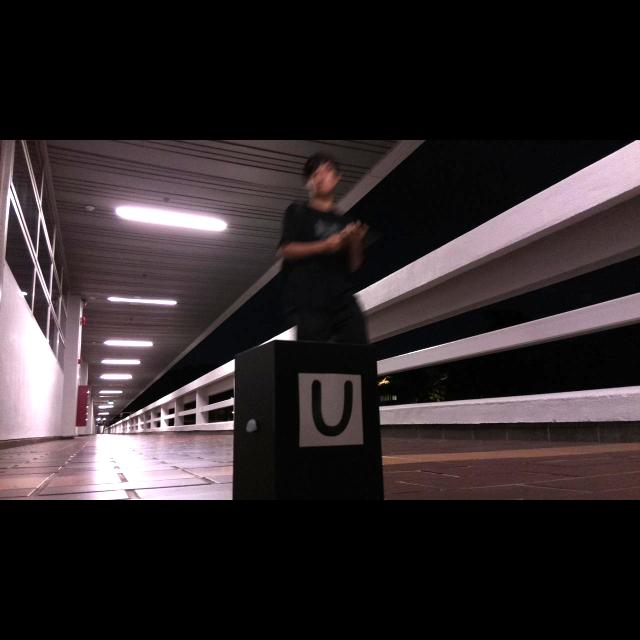U: (311, 379, 354, 437)
